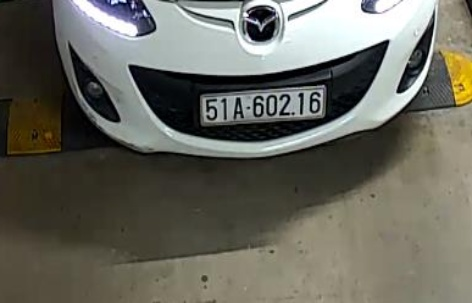plate: (187, 83, 330, 127)
